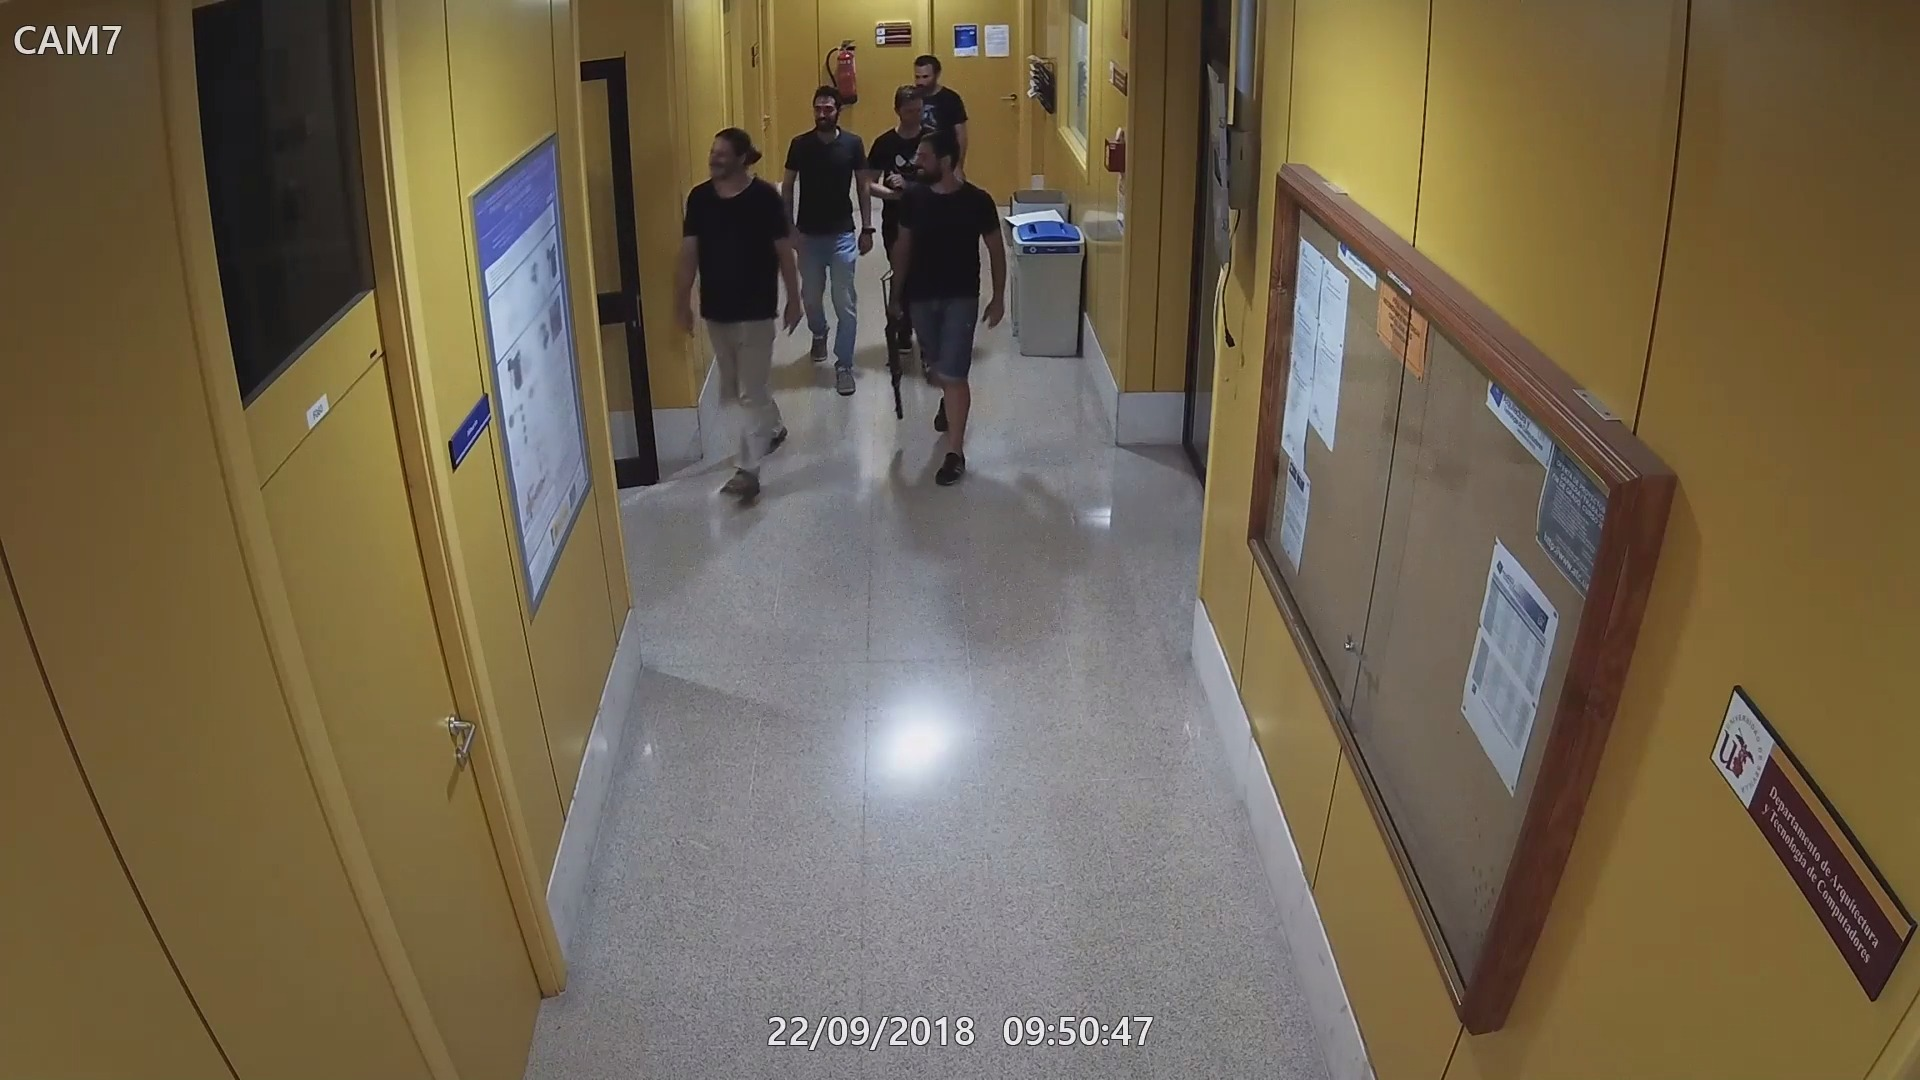Short_rifle: (880, 268, 906, 421)
